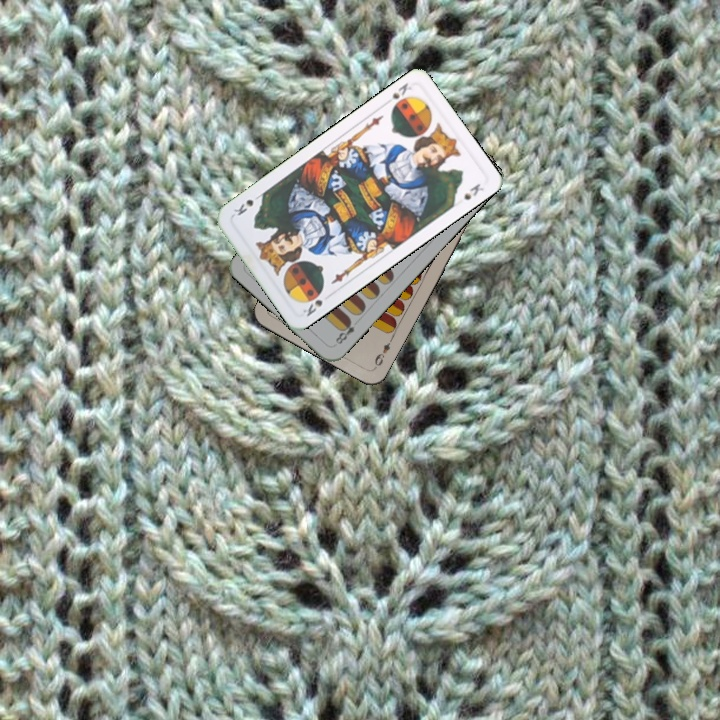E8: (331, 315, 357, 347)
E9: (370, 334, 396, 370)
SK: (380, 79, 414, 108), (299, 287, 326, 319)
